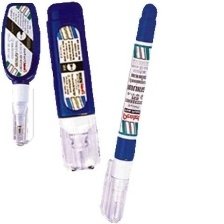correction_fluid: (97, 1, 158, 223), (42, 0, 102, 172), (0, 0, 41, 148)
